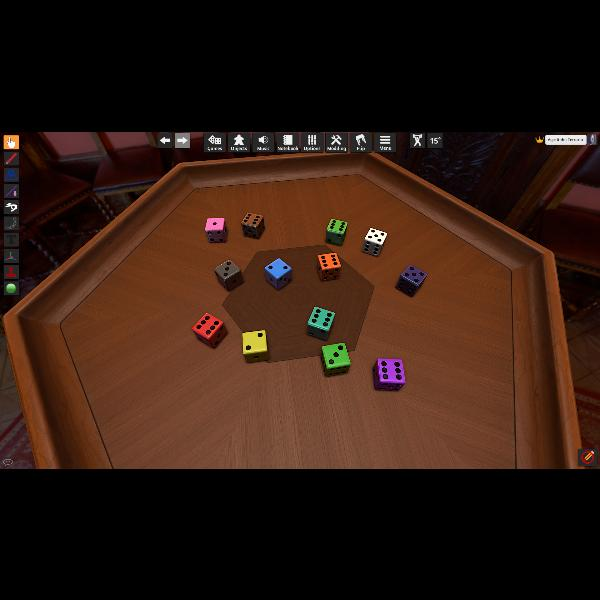d6: (192, 312, 226, 348), (372, 358, 404, 390), (320, 343, 350, 377), (395, 264, 425, 296), (242, 330, 270, 362), (264, 258, 292, 290), (214, 259, 242, 291), (310, 306, 336, 340), (314, 252, 341, 282), (361, 227, 385, 255), (204, 216, 226, 244), (242, 212, 264, 240), (324, 218, 346, 246)
